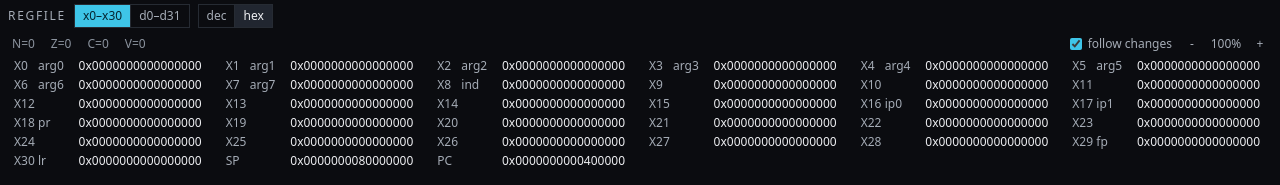
Scenario: RegisterPanel d-register view › switches between the integer and fp files and persists the choice
The image size is (1280, 185).
Check: the text "X0" is shown, box [14, 57, 28, 74]
Click the button "d0–d31".
click(159, 16)  # box [130, 5, 189, 27]
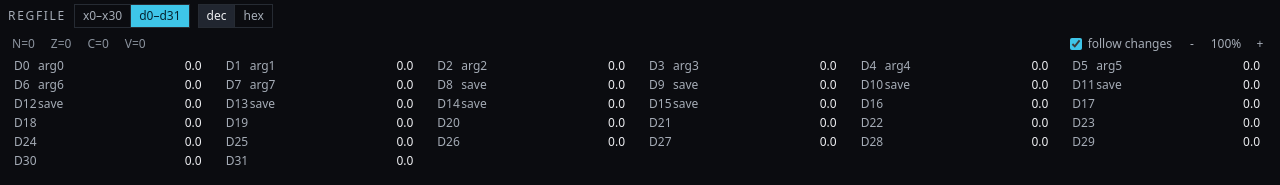
Check: the text "D0" is shown, box [14, 57, 30, 74]
Check: the text "D31" is shown, box [226, 153, 246, 168]
